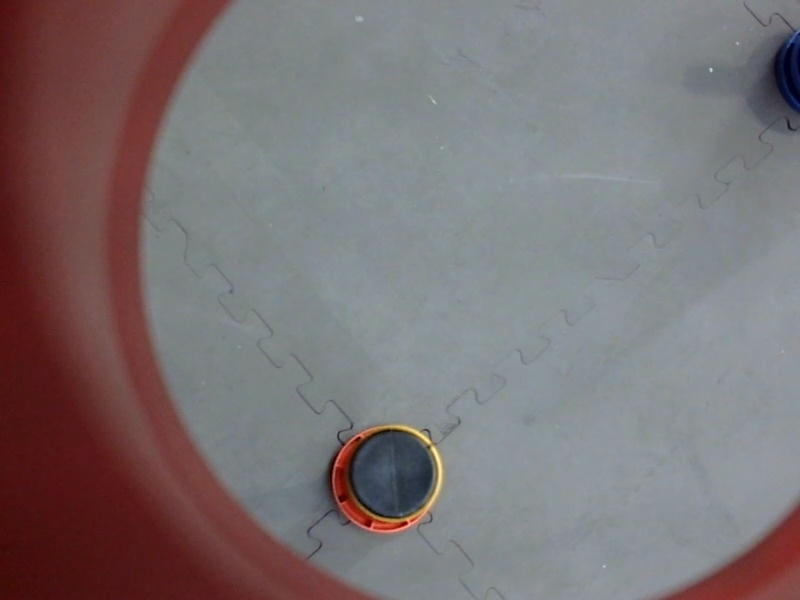tip: (340, 422, 449, 529)
